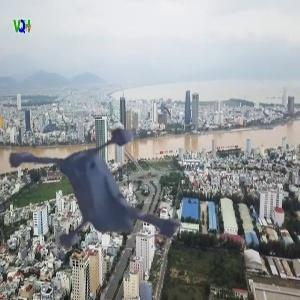drone: (24, 93, 226, 295)
